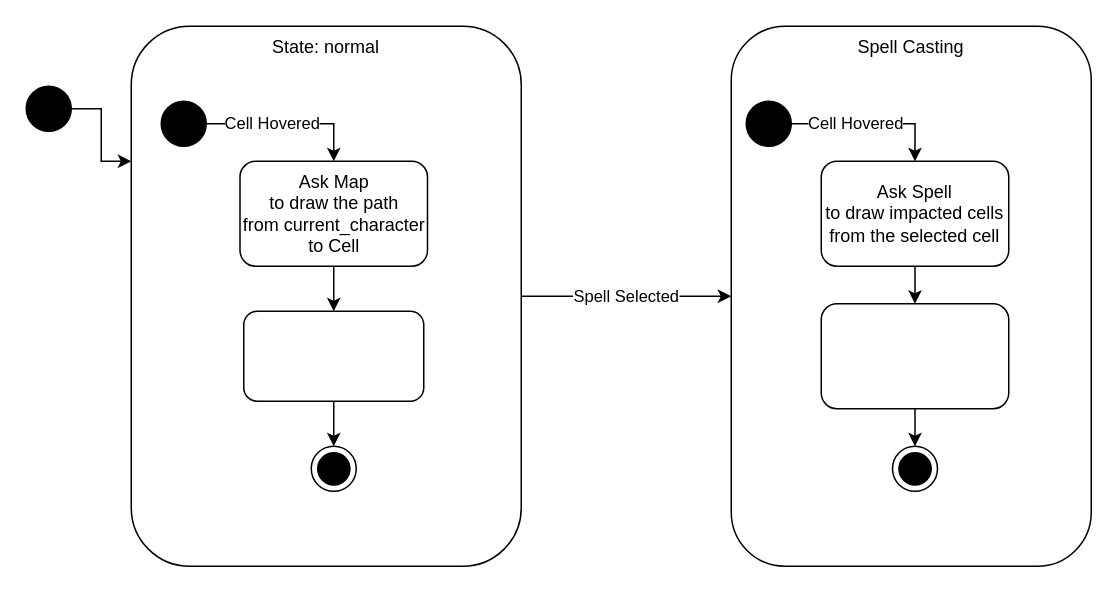
Some shapes in this 1118 by 593 pixel diagram are drawn without their labels. Each missing label, with the centre of its shape:
"Save drawn path" belongs at [333,355].
"Save impacted cells" belongs at [914,355].
